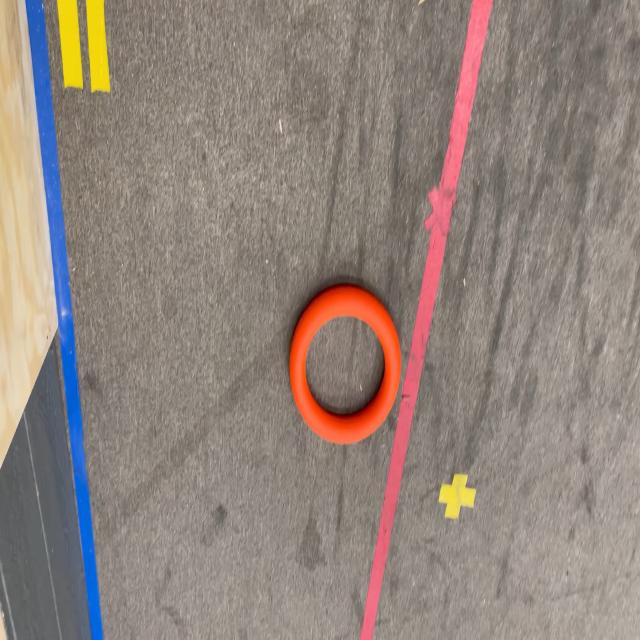note: (288, 282, 403, 446)
